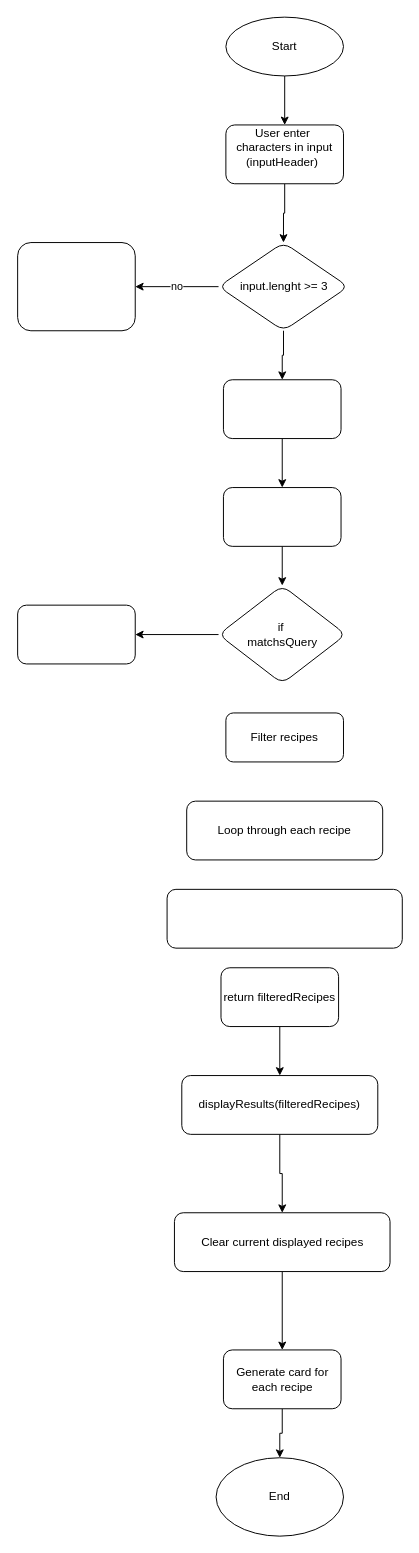
Image size: 419x1553. Some labels were removed from this diagram. The shapes that lost their labels are listed below. From the top down, each one's centre as x and y in pixels, then its label:
At (76,286): "MESSAGE ERROR : Veuillez entrer minimum 3 caractères".
At (281,409): "input to lowercase".
At (281,516): "Rechercher des recettes à partir de 3 caractères entré".
At (76,634): "Error message : aucune recette ne correspond à votre recherche".
At (284,918): "Check if queryWord matches recipe name, description, or ingredients".
